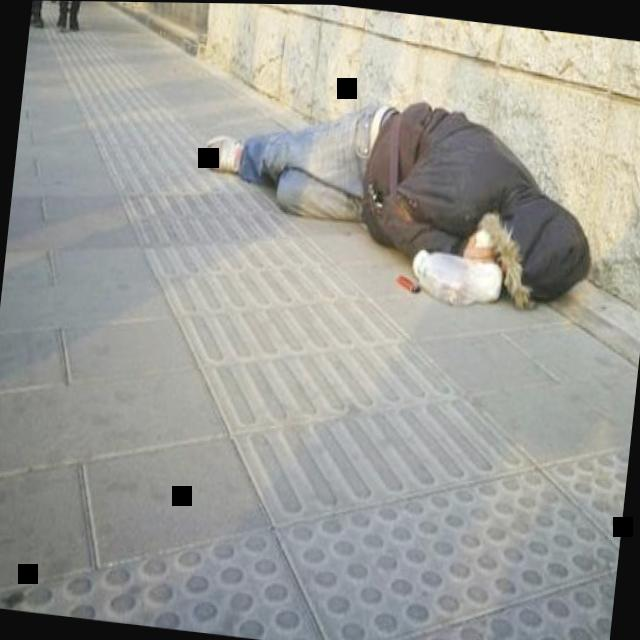Fall-Detected: (192, 50, 620, 335)
